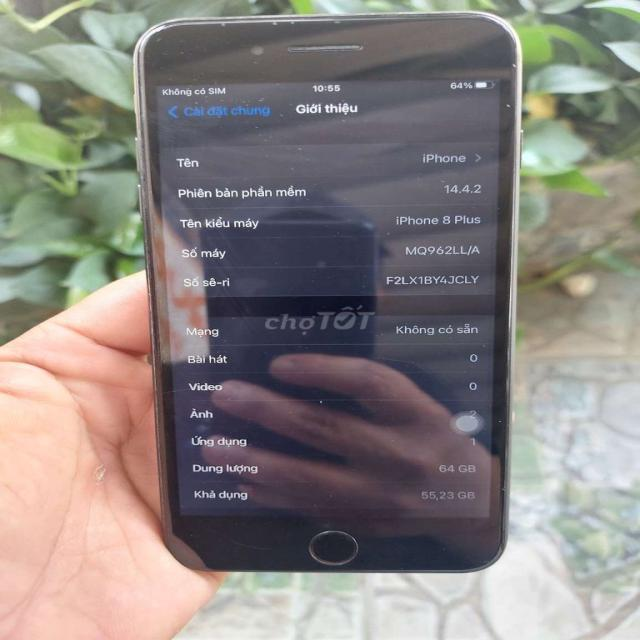gen_7_8: (120, 9, 527, 585)
scratch: (143, 31, 280, 81), (135, 231, 163, 411), (201, 532, 271, 552), (203, 21, 343, 28), (502, 332, 515, 404), (500, 95, 518, 112), (508, 55, 524, 70), (499, 479, 510, 497), (476, 556, 500, 564)
